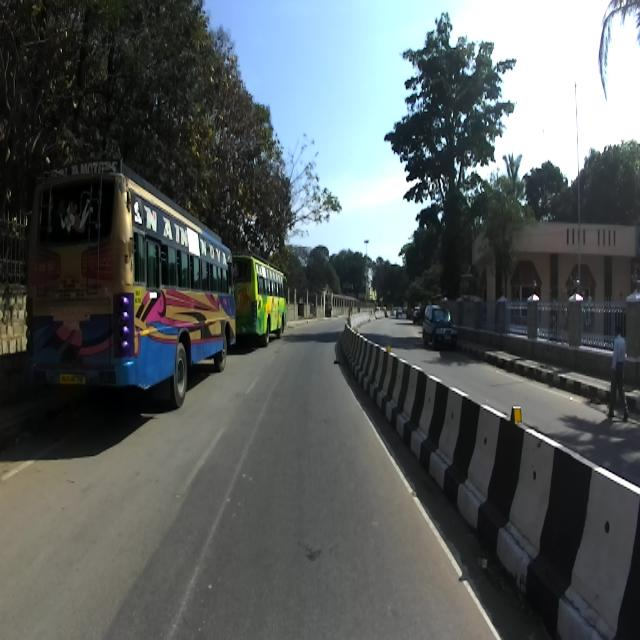bus ahead at: (21, 161, 240, 408), (238, 244, 290, 344)
